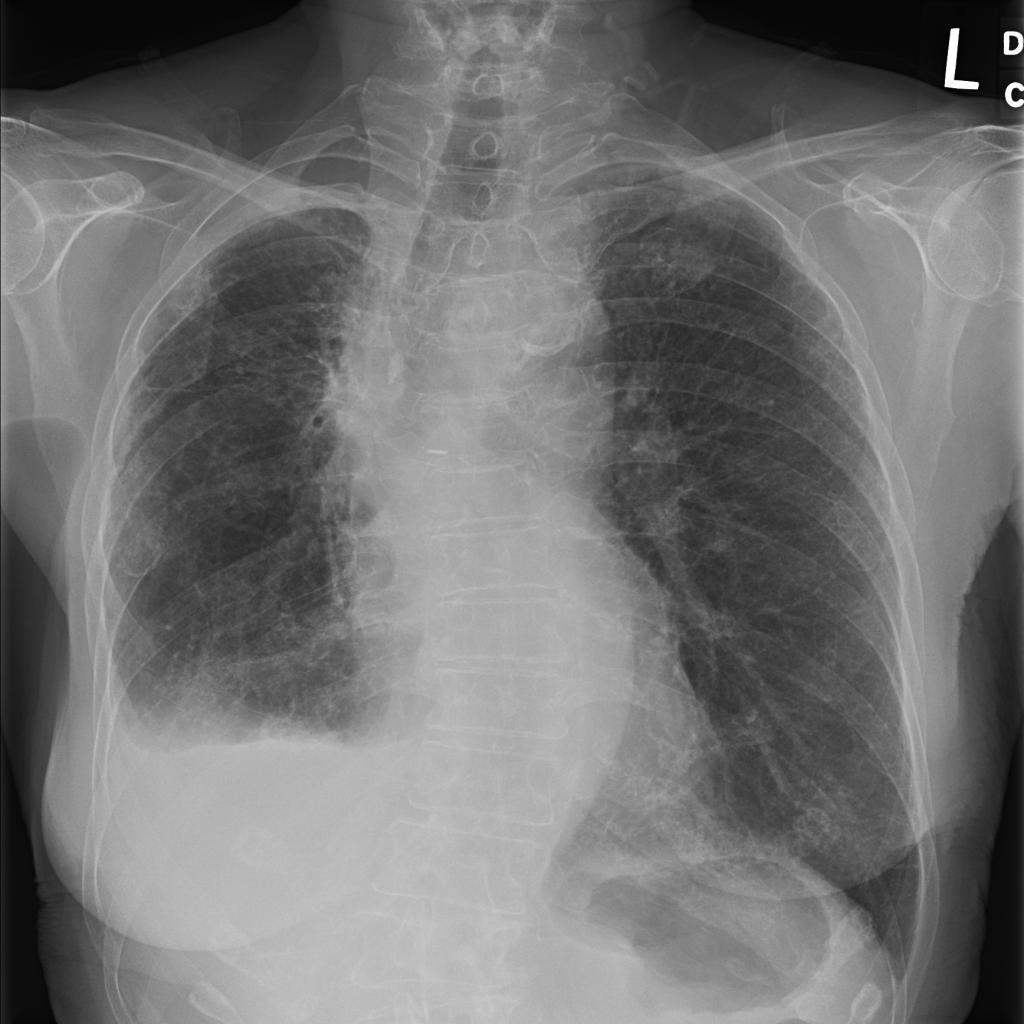Nodule: (333, 295, 399, 351), (385, 115, 431, 146)
